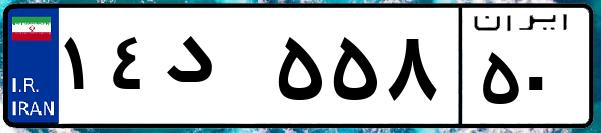0: (525, 38, 570, 115)
1: (57, 26, 110, 100)
4: (110, 28, 158, 98)
5: (270, 28, 330, 110), (330, 28, 385, 110), (475, 38, 525, 113)
8: (385, 28, 445, 110)
د: (158, 20, 270, 120)
